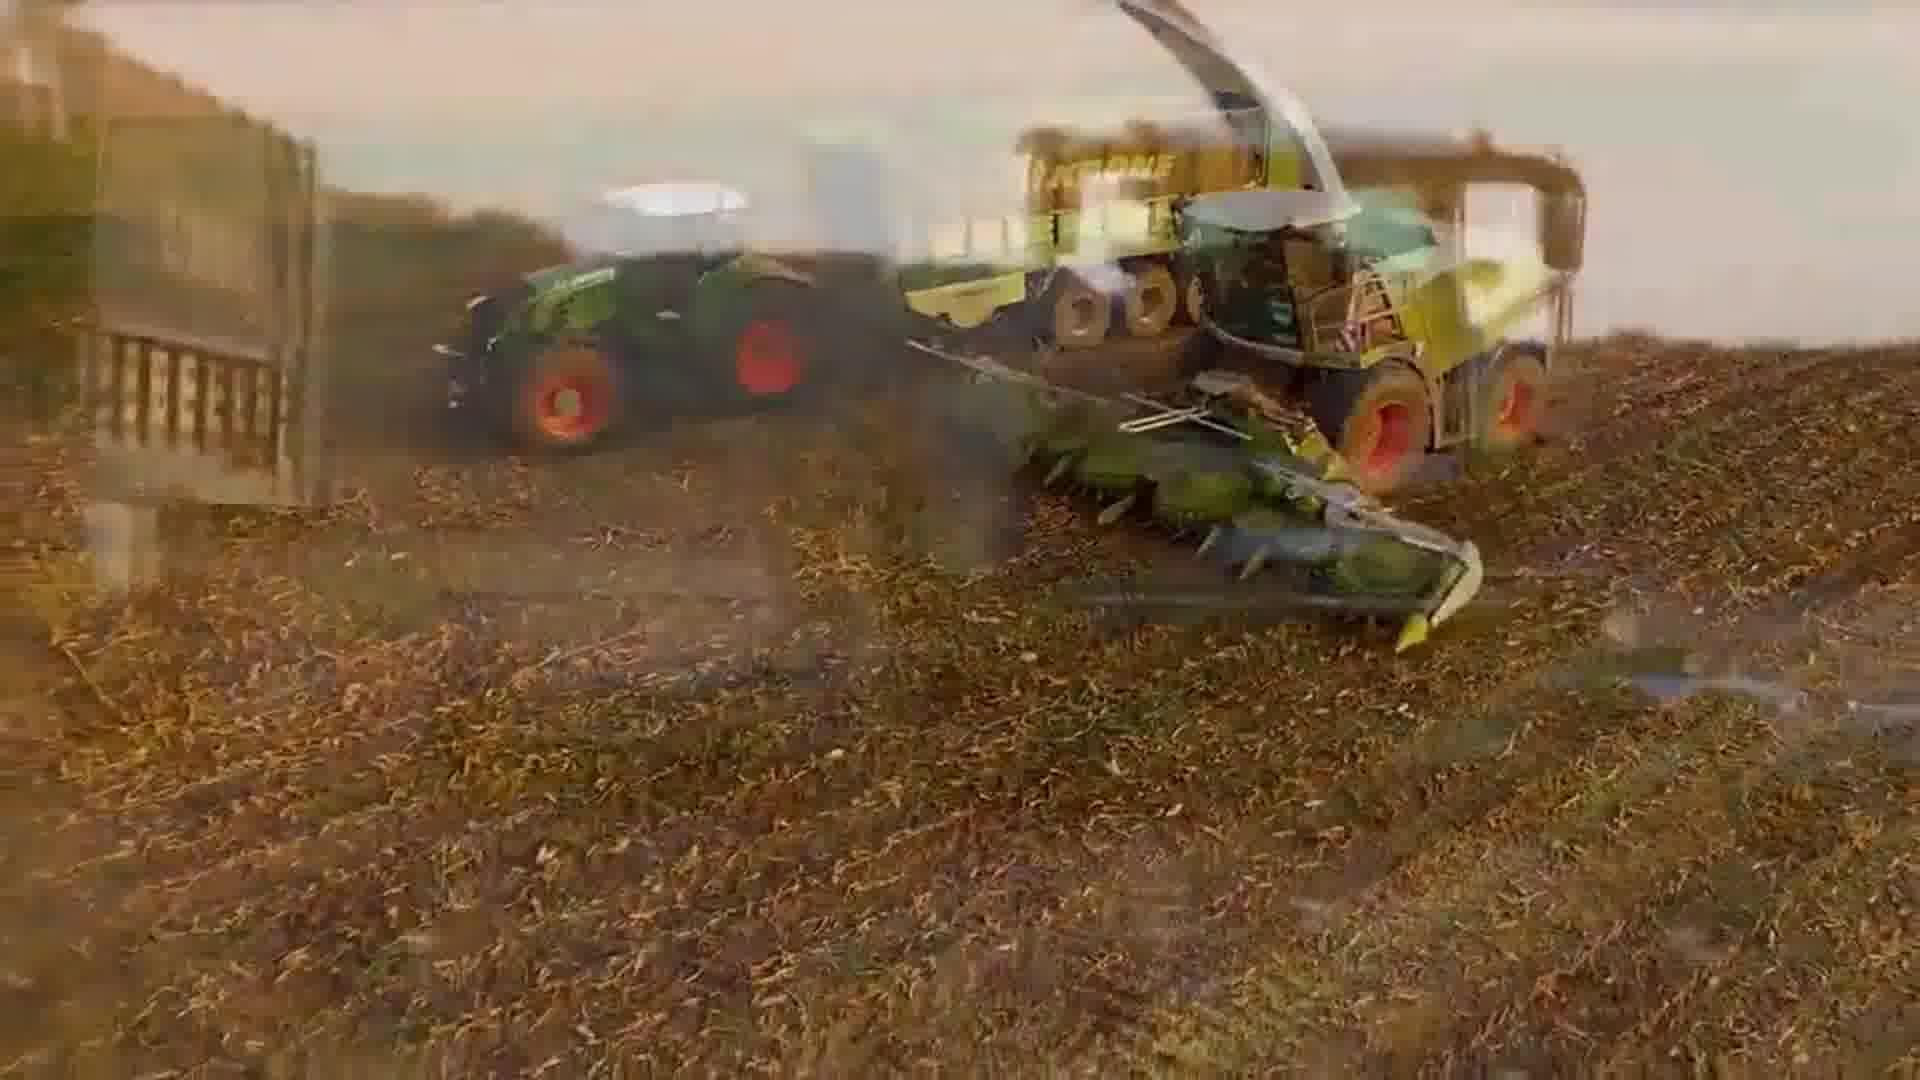combine harvester: (922, 0, 1555, 674)
tractor: (430, 165, 829, 451)
trailer: (833, 96, 1313, 356)
